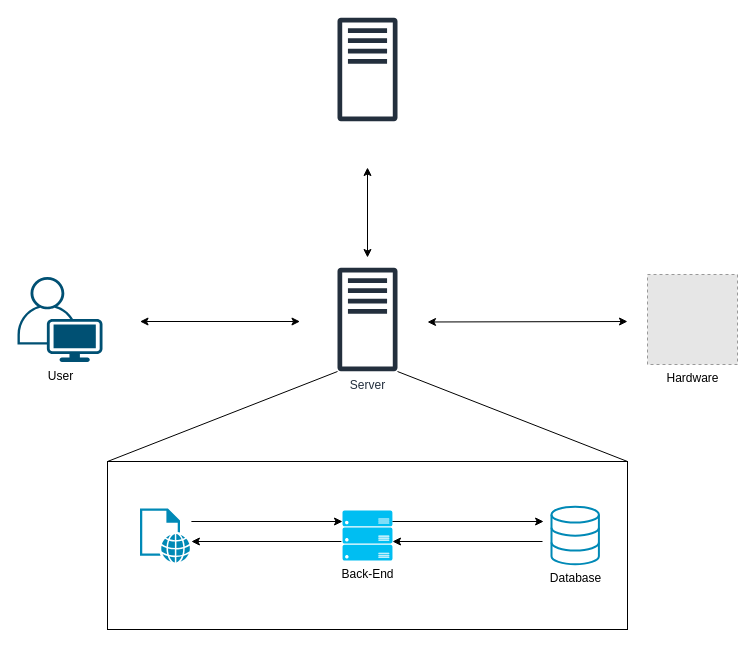
Image size: 755x647. Some labels were removed from this diagram. Grey dashed boxes stand in for pictures. The shapes that lost their labels are listed below. From the top down, each one's centre as x and y in pixels, then its label:
(367,69): Authentication Server
(165,535): Front-End
